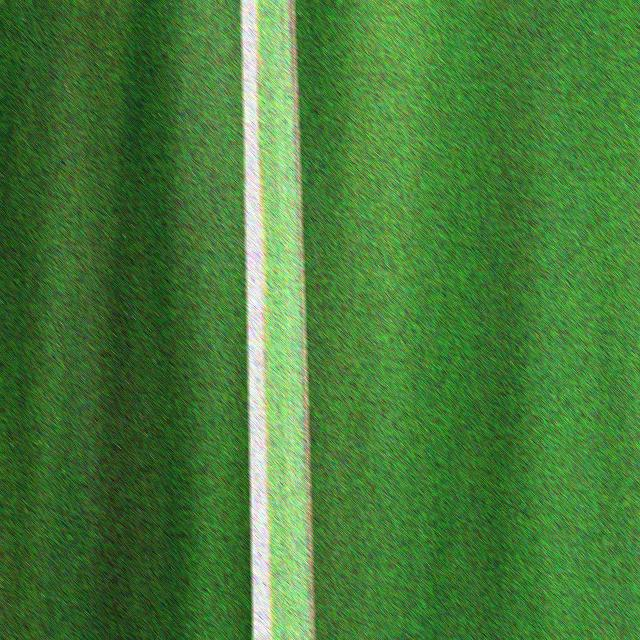BLB: (242, 0, 271, 640)
